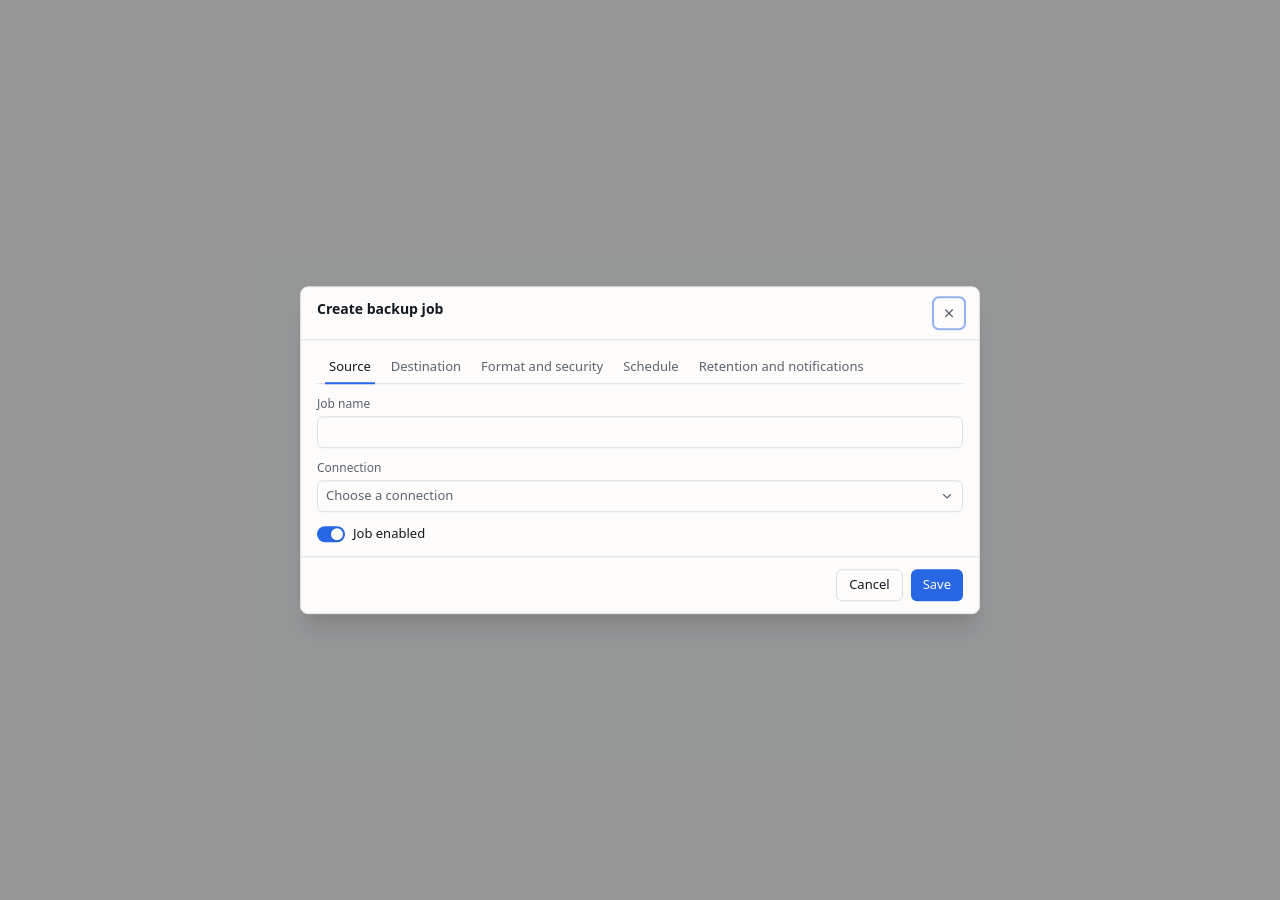
Test: BackupJobDialog › blocks saving and jumps to the first section with an error
What coordinates should you click on to do the following:
click the button "Save"
I would click on:
 (937, 585)
Its box is [911, 569, 963, 601].
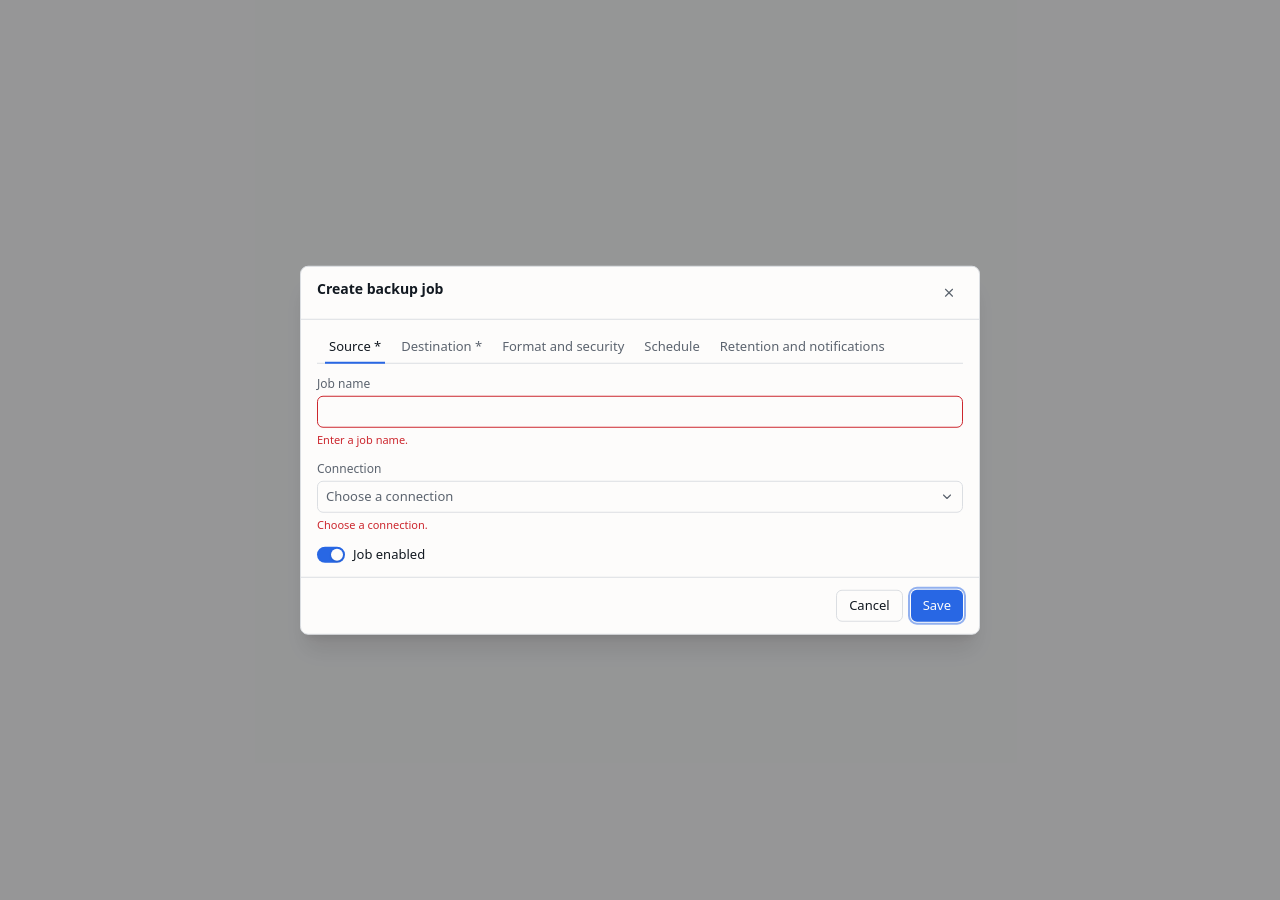
Expected: the text "Enter a job name." is shown, [317, 432, 408, 447]
Expected: the text "Choose a connection." is shown, [317, 516, 428, 531]
